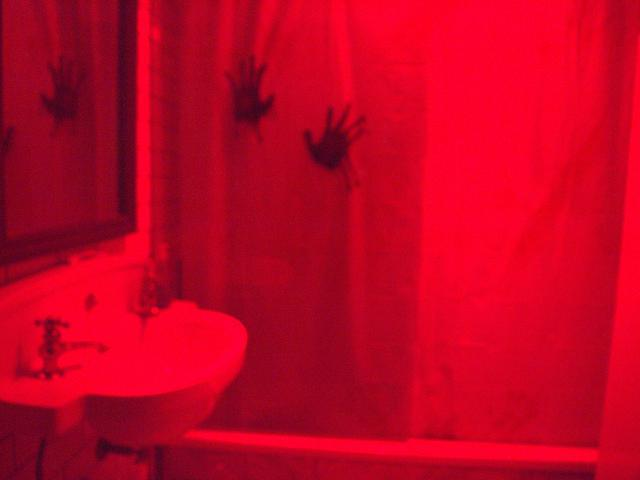Ducha: (183, 24, 603, 479)
Lavamanos: (10, 272, 242, 438)
